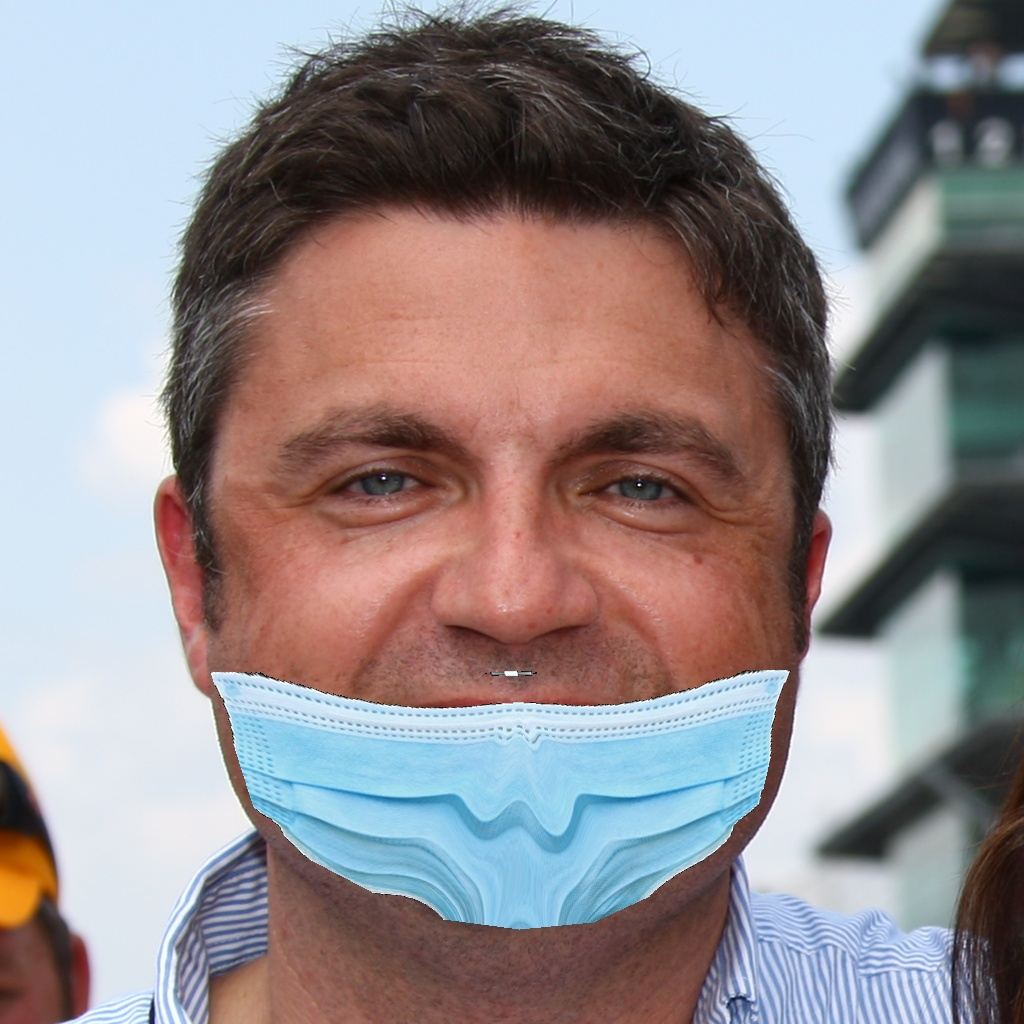mascarilla_mal_puesta: (204, 385, 844, 950)
